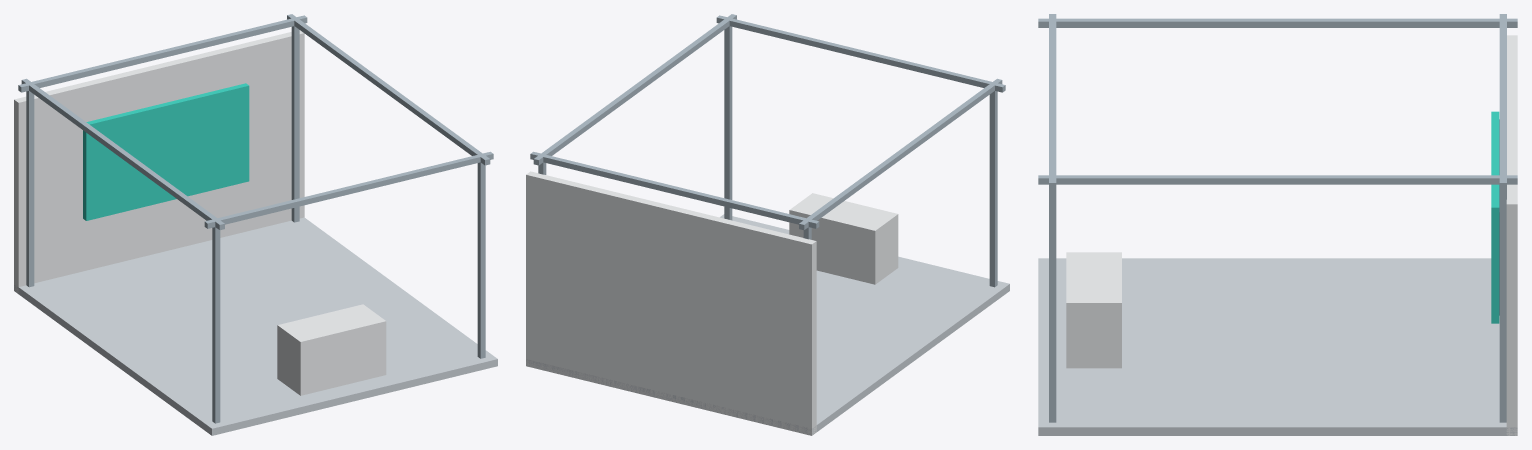
3 views of the same model, side by side, from view 1: azimuth 30°, elevation 25°; view 2: azimuth 150°, elevation 25°; view 3: azimuth 270°, elevation 25° (orthographic). The views are drawn at different scales.
Parts seen in each view (by area): view 1: Exhibition Booth Concept; view 2: Exhibition Booth Concept; view 3: Exhibition Booth Concept.
Boxes of the visible parts, left/top/right/bottom form: Exhibition Booth Concept: left=14, top=14, right=497, bottom=435; Exhibition Booth Concept: left=526, top=14, right=1009, bottom=435; Exhibition Booth Concept: left=1038, top=14, right=1517, bottom=435.
Bounding box in the file's own units: 5 × 3.49 × 6.
